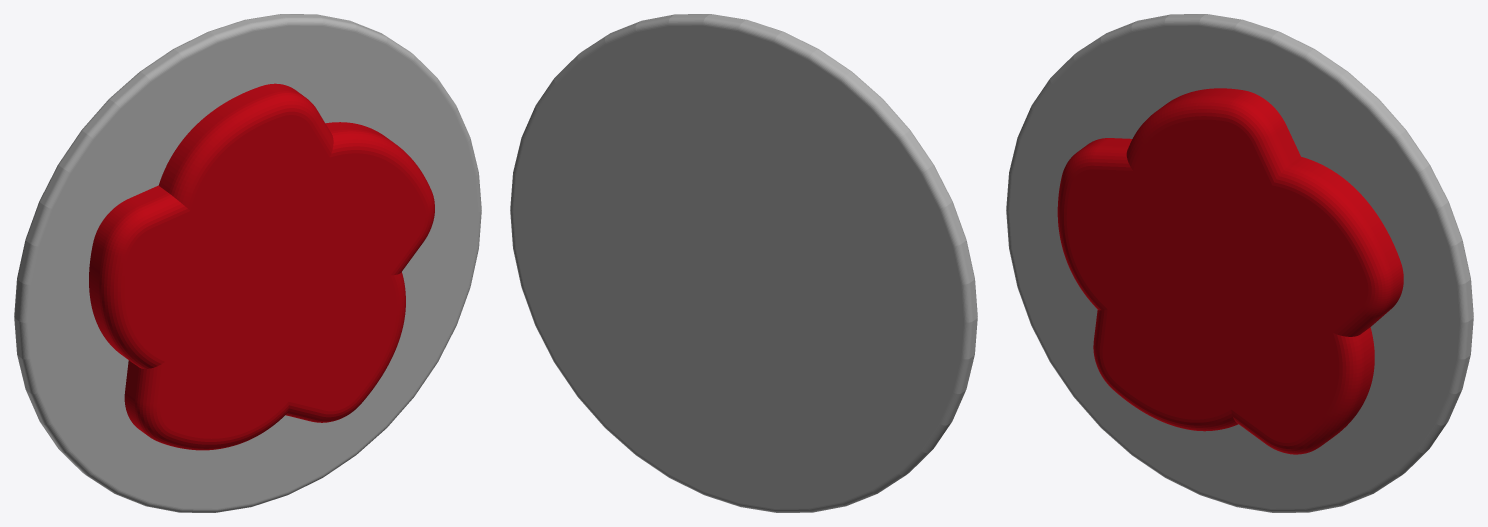
File: award-2.glb
3 views of the same model, side by side, from view 1: azimuth 30°, elevation 25°; view 2: azimuth 150°, elevation 25°; view 3: azimuth 330°, elevation 25° (orthographic).
Visible parts, largest first — view 1: Mesh_0.005, Mesh_1.005; view 2: Mesh_1.005; view 3: Mesh_0.005, Mesh_1.005.
Boxes of the visible parts, x1=… form: Mesh_0.005: x1=89, y1=83, x2=434, y2=450; Mesh_1.005: x1=14, y1=14, x2=481, y2=512; Mesh_1.005: x1=510, y1=14, x2=977, y2=512; Mesh_0.005: x1=1057, y1=88, x2=1403, y2=454; Mesh_1.005: x1=1006, y1=14, x2=1473, y2=512.
Bounding box in the file's own units: 41 × 41 × 4.6.
